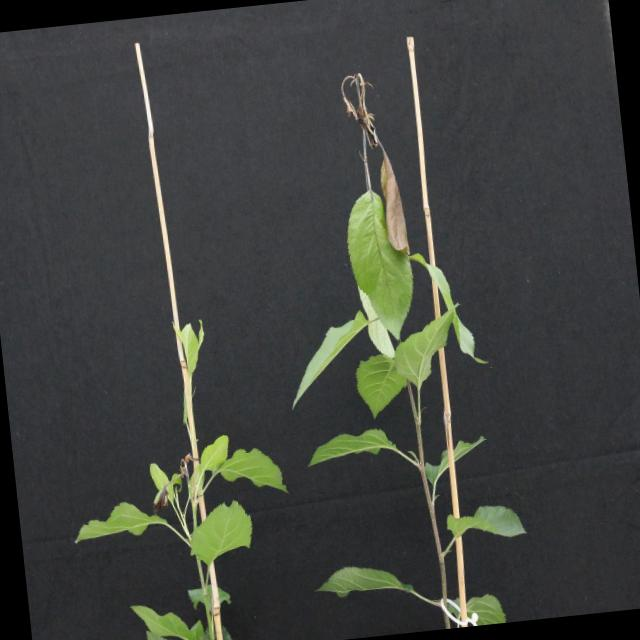-FireBlight-: (338, 70, 415, 253)
